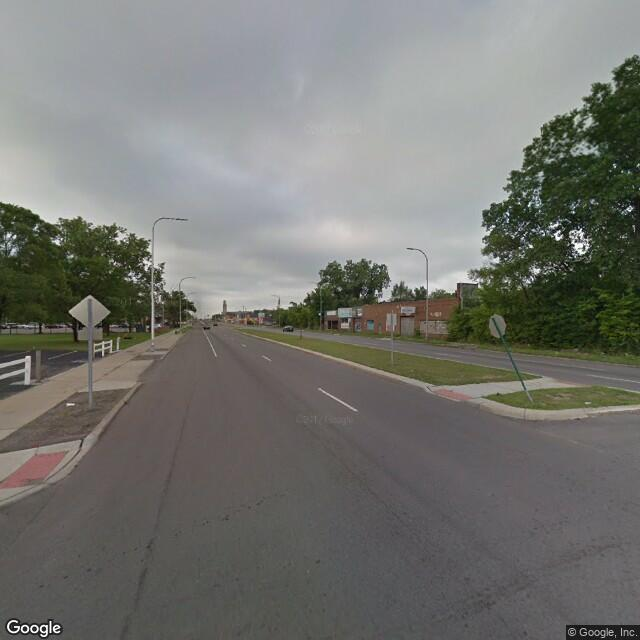litter: (65, 401, 77, 407), (495, 390, 505, 397), (584, 400, 592, 404), (122, 400, 127, 406)
